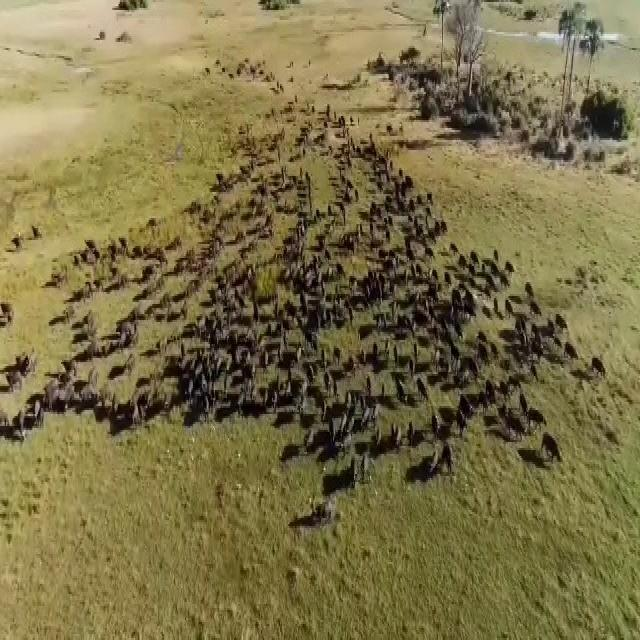Buffalo: (516, 290, 562, 374), (202, 304, 247, 380), (359, 270, 412, 333), (289, 237, 334, 300), (246, 199, 284, 270), (182, 379, 228, 434), (260, 318, 291, 384), (46, 370, 86, 420), (538, 403, 562, 467), (355, 394, 384, 446), (148, 286, 182, 329), (12, 396, 40, 446), (356, 339, 392, 374), (450, 391, 478, 434), (309, 484, 335, 530), (363, 206, 397, 240), (449, 280, 473, 328), (402, 376, 430, 414), (316, 336, 342, 376), (110, 399, 144, 429), (112, 290, 136, 331), (488, 259, 516, 294), (176, 328, 199, 370), (440, 343, 470, 375), (419, 446, 442, 487), (406, 230, 430, 266), (502, 408, 527, 442), (477, 336, 495, 379), (342, 470, 374, 488), (396, 185, 413, 218), (335, 396, 348, 430), (301, 427, 321, 446), (218, 270, 232, 294)
